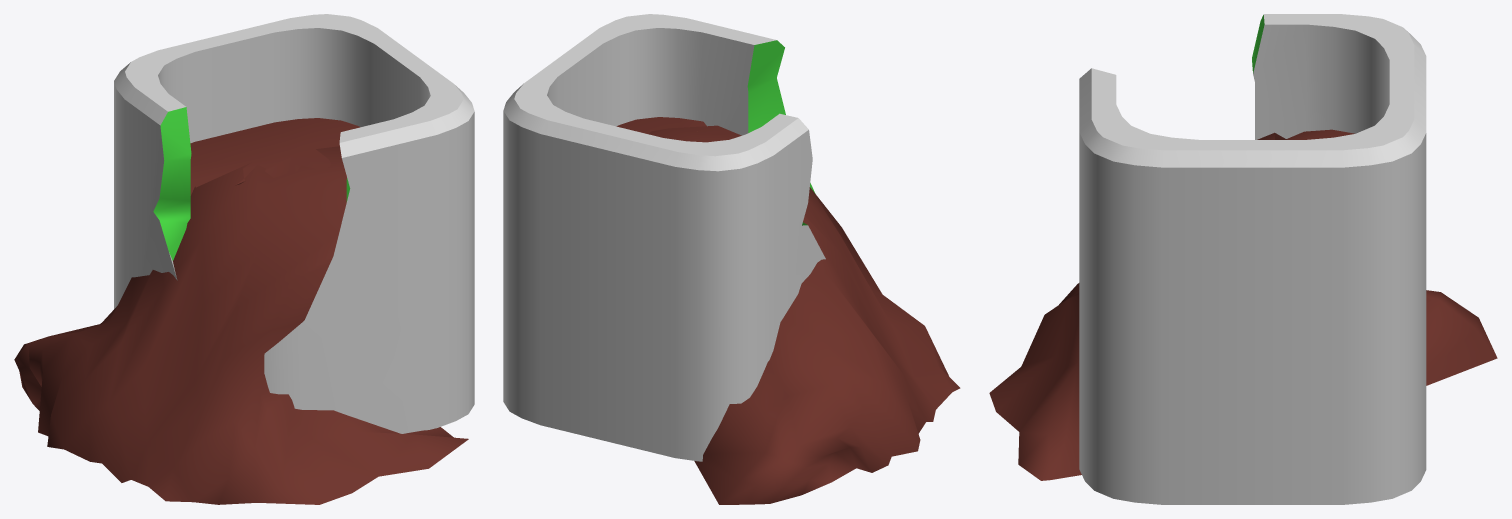
Rendered from Plant Pot Destroyed A.fbx.
3 renders of one model, left to right at view 1: azimuth 30°, elevation 25°; view 2: azimuth 150°, elevation 25°; view 3: azimuth 270°, elevation 25°, orthographic. The views are drawn at different scales.
Visible parts, largest first — view 1: Plant Destroyed A; view 2: Plant Destroyed A; view 3: Plant Destroyed A.
Boxes of the visible parts, box(x1,y1,x2,y2) form: Plant Destroyed A: box(14, 14, 474, 504); Plant Destroyed A: box(503, 14, 960, 504); Plant Destroyed A: box(989, 14, 1497, 504).
Size of the model in its own units: 1.28 by 1.04 by 1.32.
